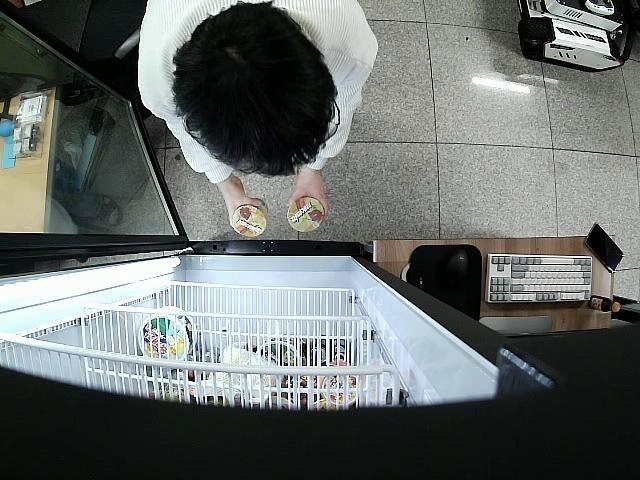04_chapagetti_S: (233, 199, 269, 236), (290, 196, 324, 232)
